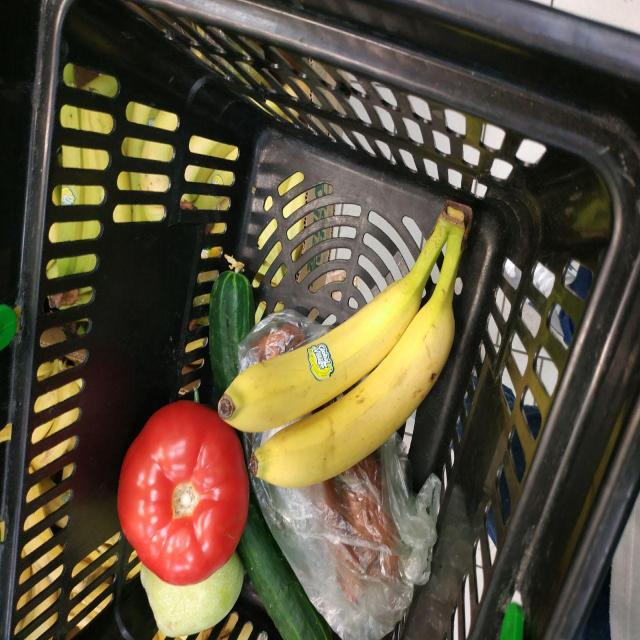Apple: (141, 552, 244, 637)
Banana: (250, 202, 470, 488), (220, 202, 471, 432)
Carrot: (325, 455, 399, 550), (349, 558, 399, 578)
Cucumber: (238, 490, 331, 639), (209, 270, 255, 395)
Tomatoes: (118, 400, 249, 584)
